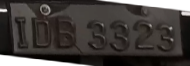2: (134, 17, 156, 52)
3: (109, 15, 132, 52), (156, 17, 177, 55), (86, 16, 108, 52)
B: (54, 16, 77, 52)
D: (32, 16, 52, 52)
I: (13, 16, 30, 52)
